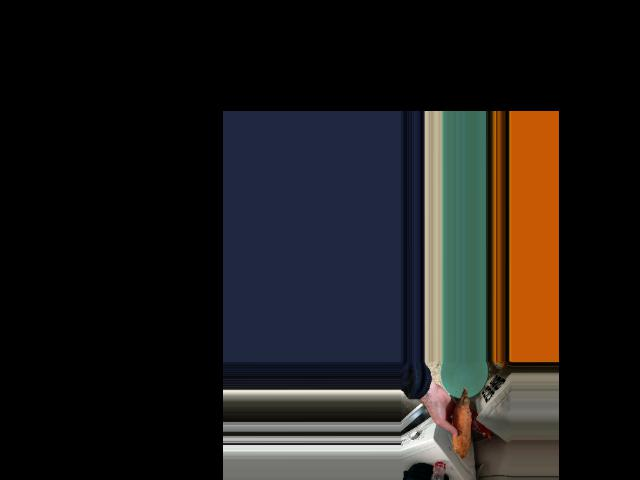sweet_potato: (449, 393, 470, 450)
